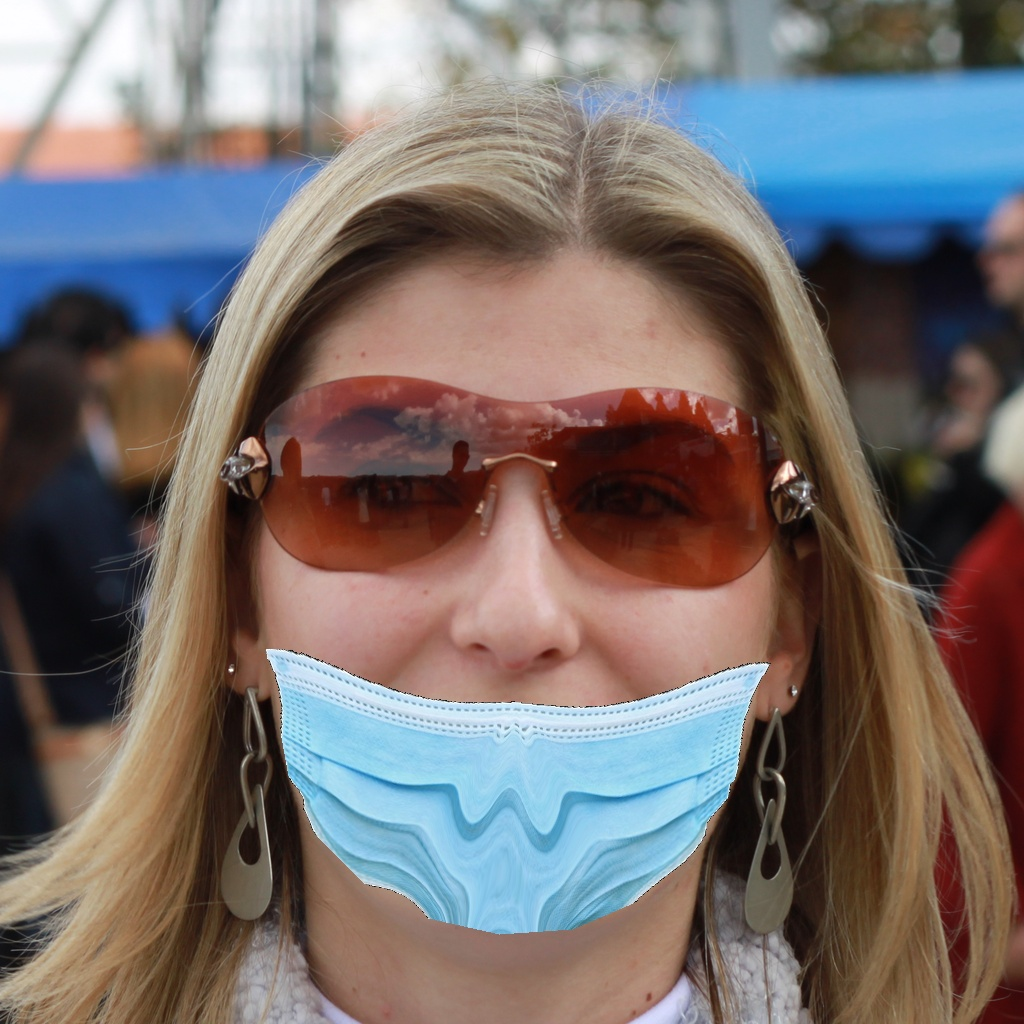mascarilla_mal_puesta: (177, 353, 859, 978)
